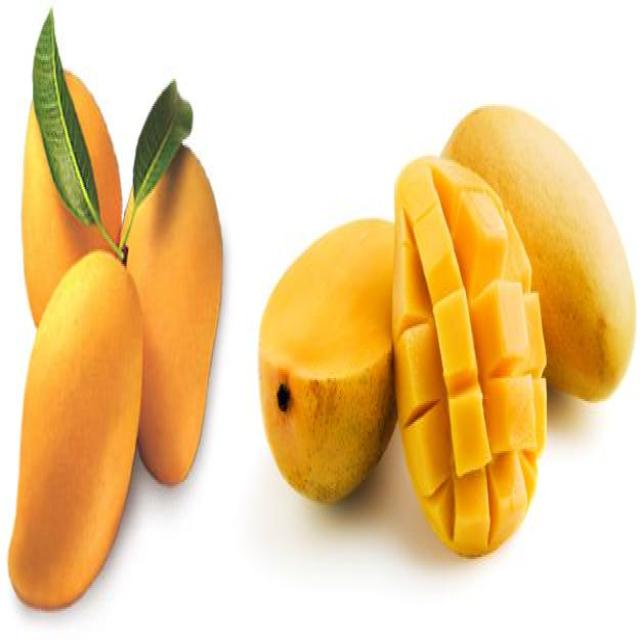mango: (9, 39, 234, 610), (379, 169, 554, 561), (446, 109, 634, 449), (254, 234, 412, 540)
